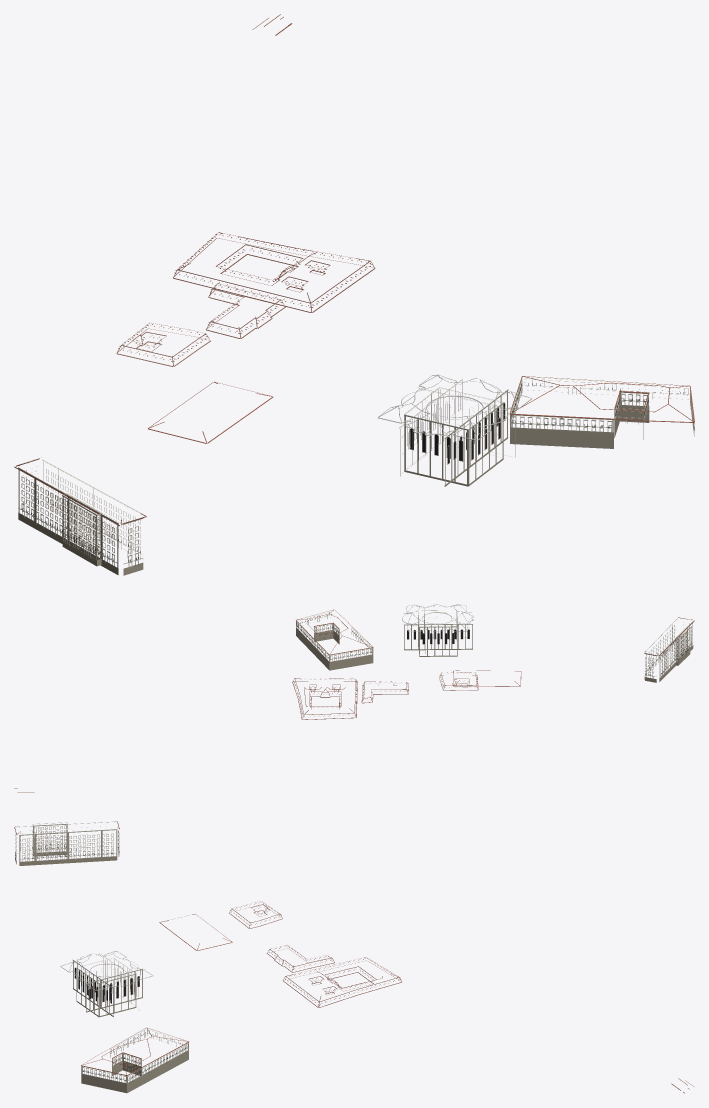
The picture shows the model from 3 angles, top to bottom: view 1: azimuth 30°, elevation 25°; view 2: azimuth 150°, elevation 25°; view 3: azimuth 270°, elevation 25°; orthographic projection. The views are drawn at different scales.
Parts seen in each view (by area): view 1: detail; view 2: detail; view 3: detail.
Boxes of the visible parts, <box> form: detail: <box>14,14,694,575</box>; detail: <box>14,604,694,792</box>; detail: <box>14,821,693,1093</box>.
Bounding box in the file's own units: 359 × 56.95 × 471.
